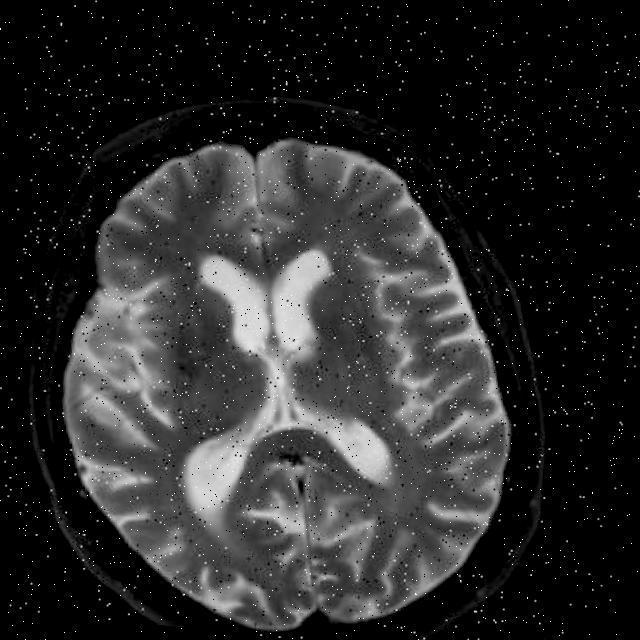LMCI: (254, 416, 364, 556)
